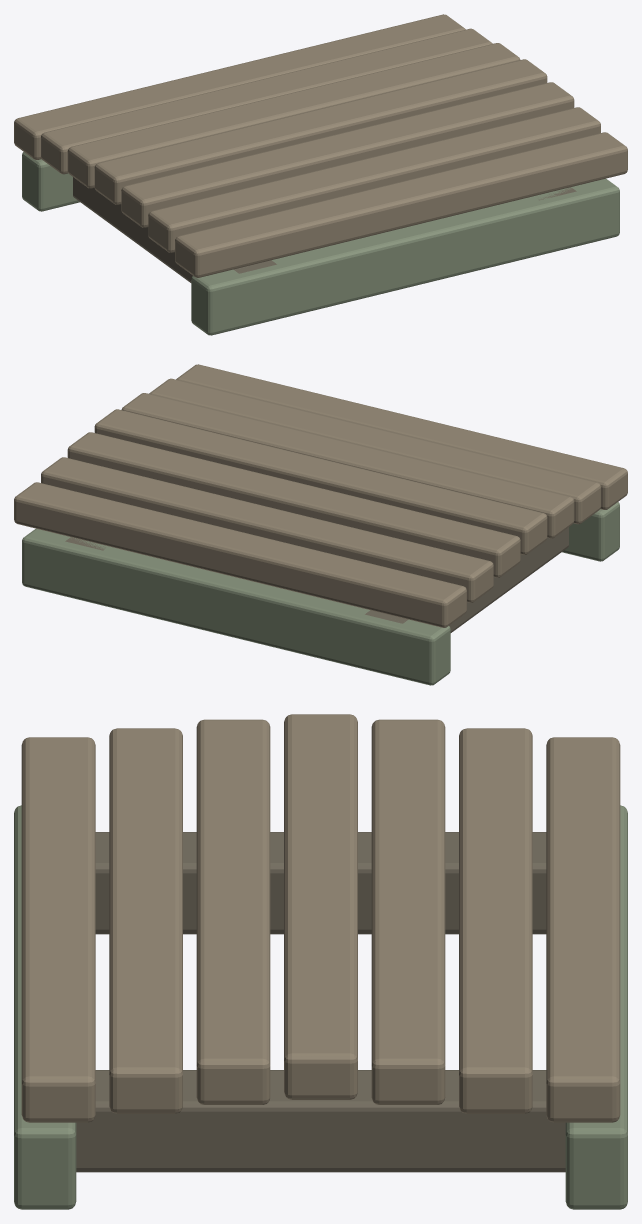
The model's file is woodland-bridge-01--weathered.glb.
3 views of the same model, one above another, from view 1: azimuth 30°, elevation 25°; view 2: azimuth 150°, elevation 25°; view 3: azimuth 270°, elevation 25° (orthographic). The views are drawn at different scales.
Parts seen in each view (by area): view 1: woodland-bridge-01--weathered; view 2: woodland-bridge-01--weathered; view 3: woodland-bridge-01--weathered.
Boxes of the visible parts, left/top/right/bottom form: woodland-bridge-01--weathered: left=14, top=14, right=627, bottom=335; woodland-bridge-01--weathered: left=14, top=364, right=627, bottom=685; woodland-bridge-01--weathered: left=14, top=714, right=627, bottom=1209.
Bounding box in the file's own units: 0.42 × 0.093 × 0.316.
